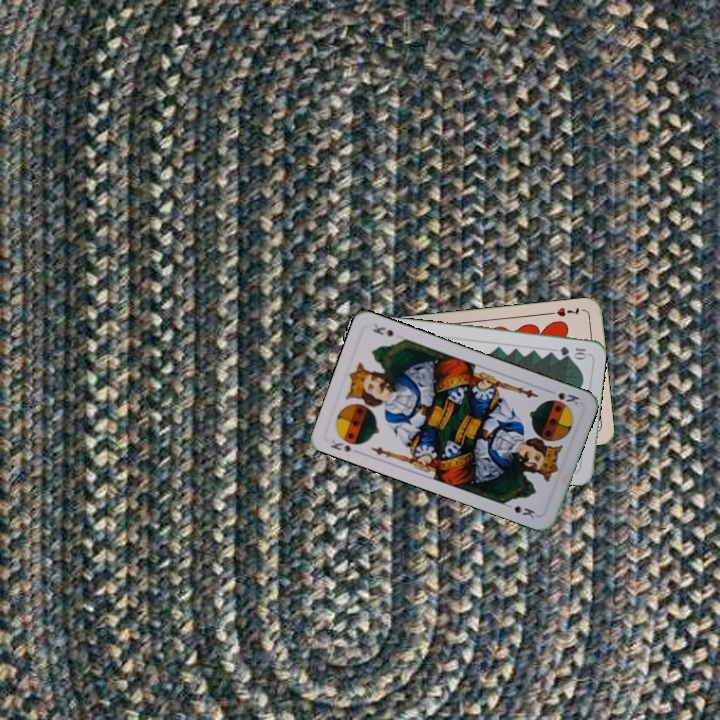G10: (556, 342, 590, 360)
H7: (545, 303, 582, 319)
SK: (543, 386, 582, 409), (326, 436, 354, 455)
